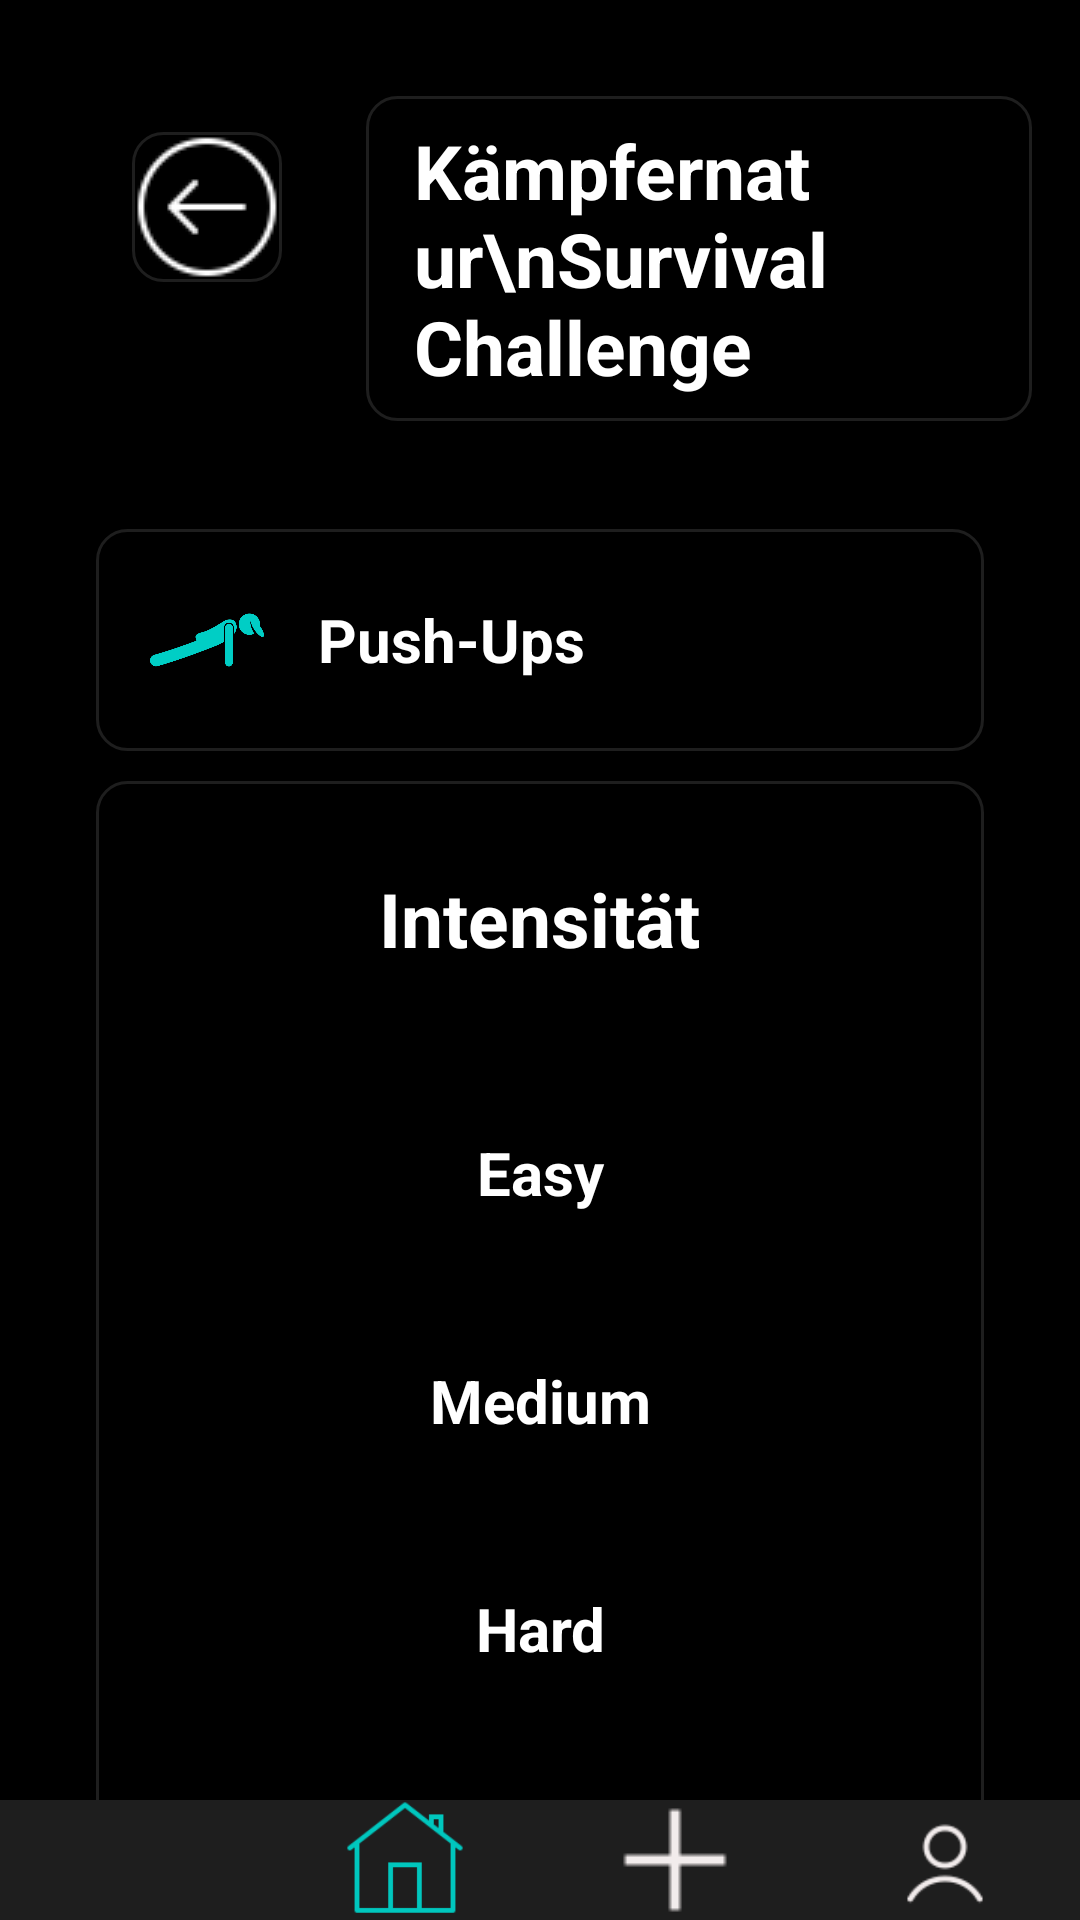

Point at icon controls on the screen. Image size 1080px×1920px, points as (x=x, y=y).
add: (x=675, y=1860)
home: (x=405, y=1857)
profile: (x=945, y=1863)
Zurück: (x=207, y=207)
